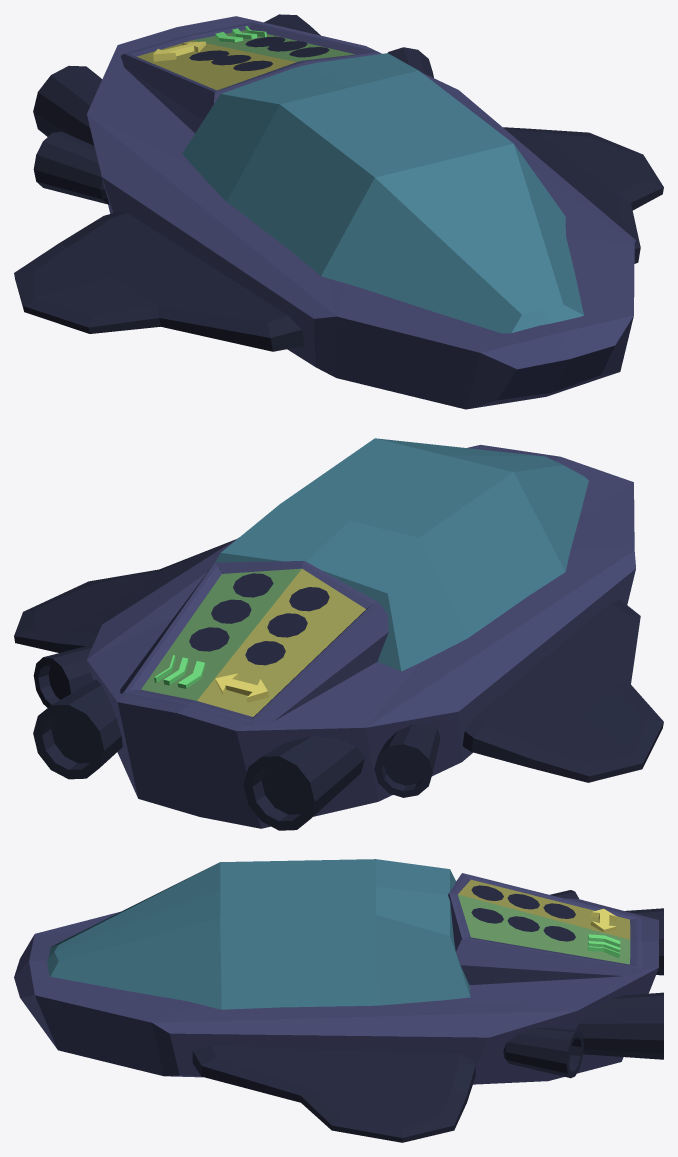
Rendered from mockupCycleEngine_iteration1.fbx.
The picture shows the model from 3 angles, top to bottom: view 1: azimuth 30°, elevation 25°; view 2: azimuth 150°, elevation 25°; view 3: azimuth 270°, elevation 25°; orthographic projection. The views are drawn at different scales.
Visible parts, largest first — view 1: Cube.003, Cube.004, Plane, Cube.005, Cylinder.008, Cylinder.001; view 2: Cube.004, Cube.003, Plane, Cube.005, Cylinder.008, Cylinder.001; view 3: Cube.003, Cube.004, Plane, Cube.005, Cylinder.008, Cylinder.001.
Part boxes in pixels (x1,y1,x2,y2): Cube.003: (182, 53, 583, 333); Cube.004: (87, 16, 635, 409); Plane: (14, 127, 663, 351); Cube.005: (120, 22, 379, 132); Cylinder.008: (33, 14, 433, 204); Cylinder.001: (189, 36, 329, 71); Cube.004: (87, 444, 635, 828); Cube.003: (215, 438, 588, 671); Plane: (14, 539, 663, 782); Cube.005: (113, 561, 388, 736); Cylinder.008: (33, 644, 440, 830); Cylinder.001: (189, 573, 329, 665); Cube.003: (47, 859, 470, 1009); Cube.004: (14, 898, 658, 1084); Plane: (192, 1046, 475, 1142); Cube.005: (448, 873, 644, 985); Cylinder.008: (503, 890, 663, 1078); Cylinder.001: (471, 885, 575, 941).
Size of the model in its own units: 773 by 222 by 854.
